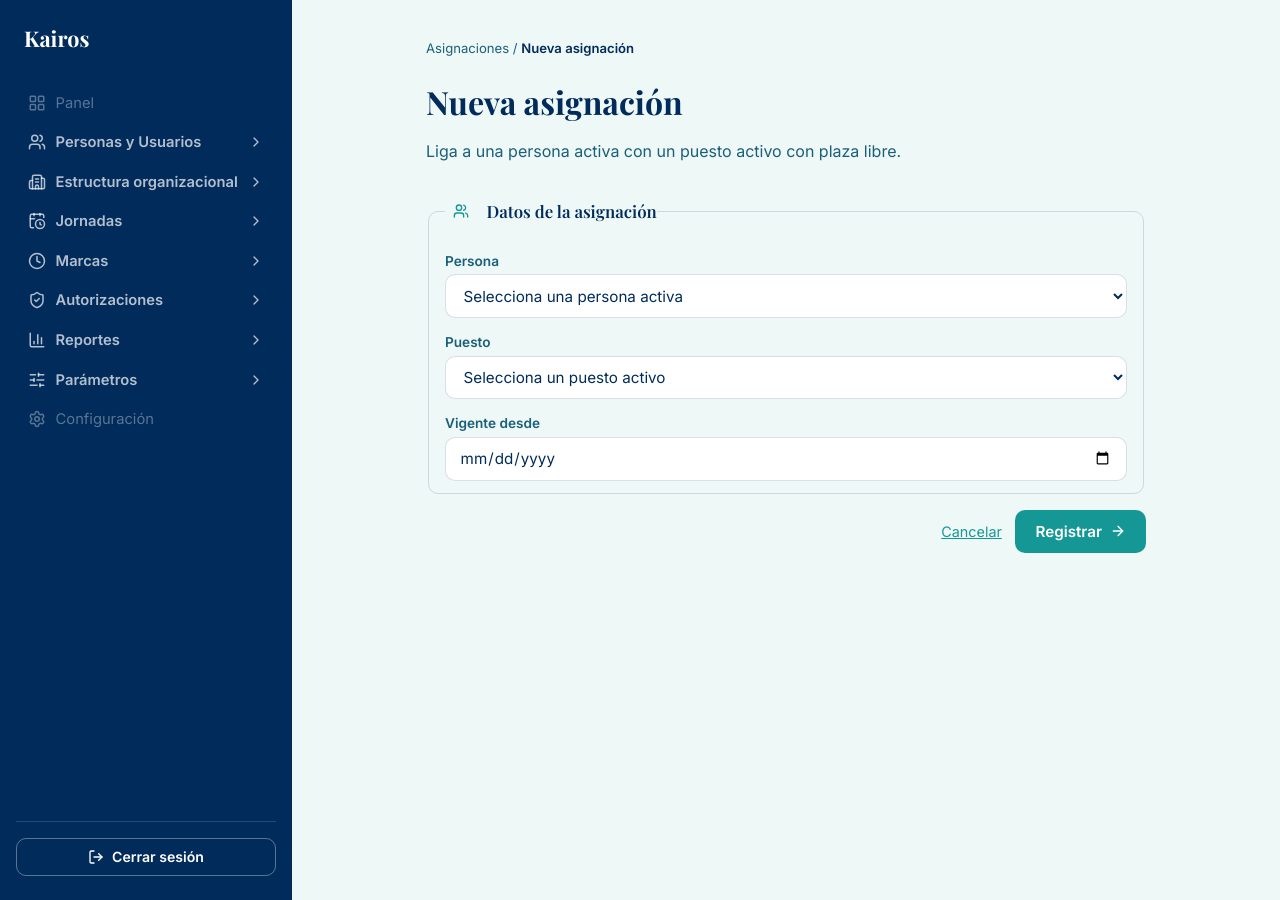
Test: AltaAsignacionPage › muestra el detail real del backend cuando el gate rechaza con 403 (sin asignacion_edicion)
Select "Persona Ficticia Uno" in the dropdown labelled "Persona" at [786, 296], box [445, 274, 1127, 318]
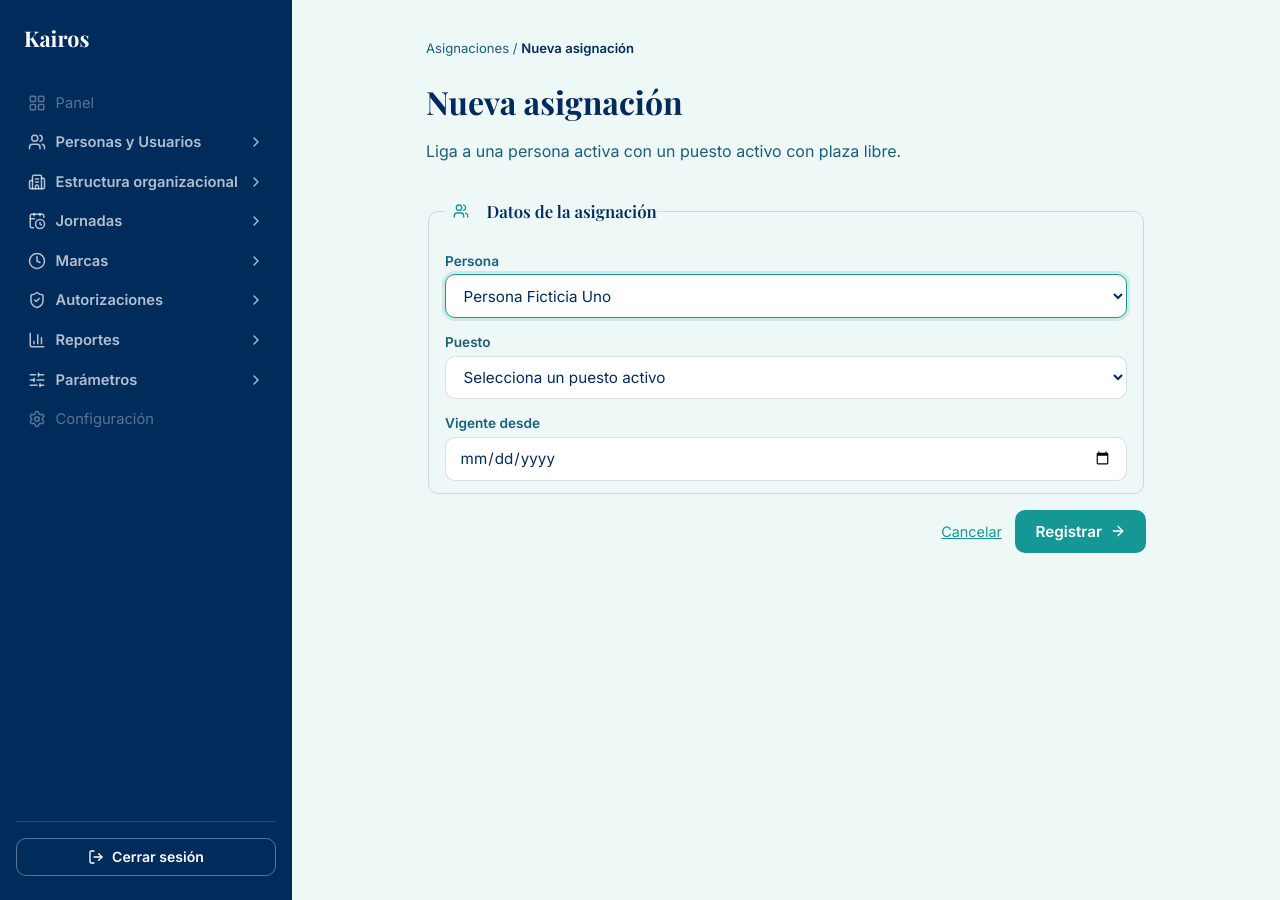
Select "Puesto Ficticio Uno" in the dropdown labelled "Puesto" at [786, 378], box [445, 356, 1127, 399]
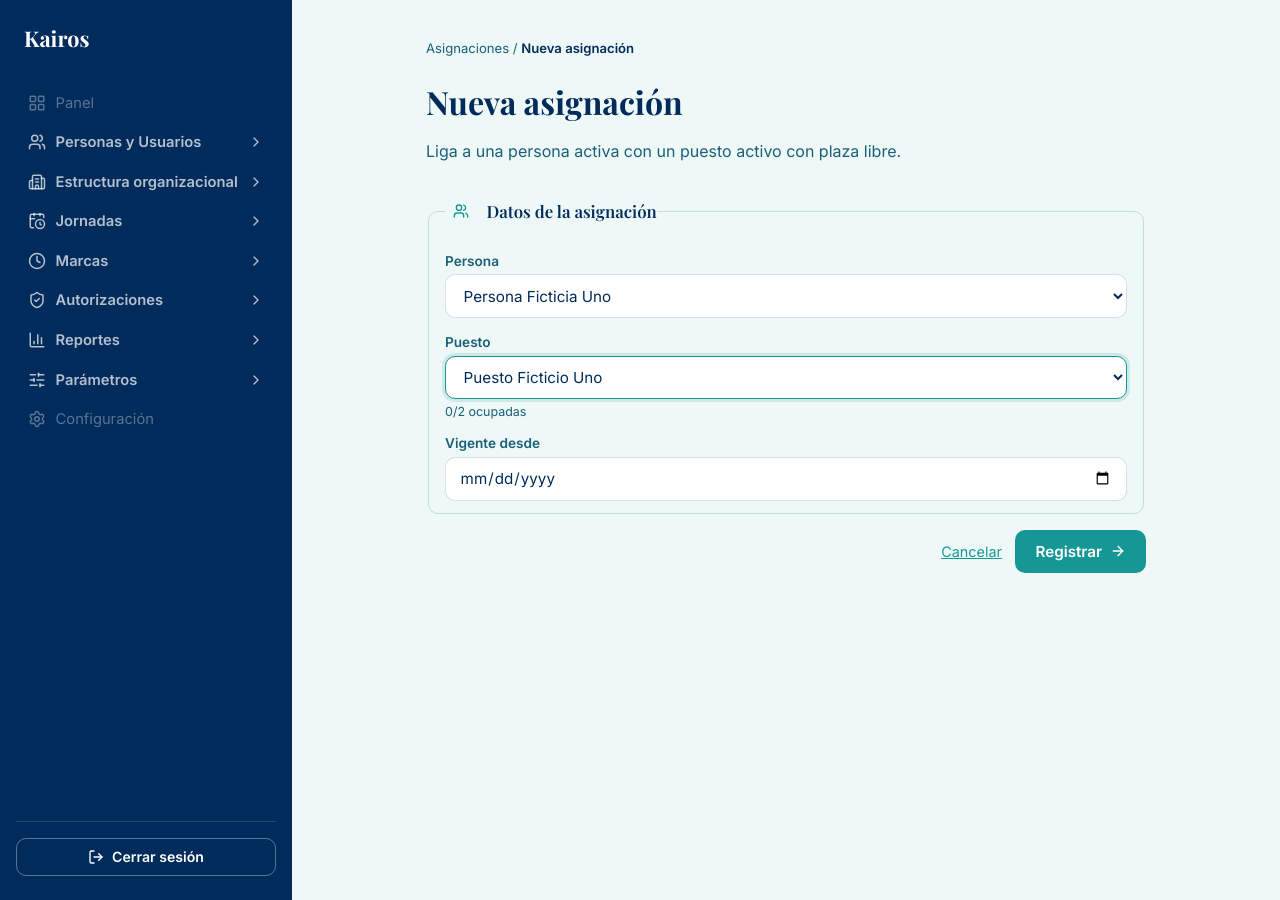
Type "2026-01-01" into the date field labelled "Vigente desde".
click(786, 479); type("2026-01-01")  # box [445, 457, 1127, 500]
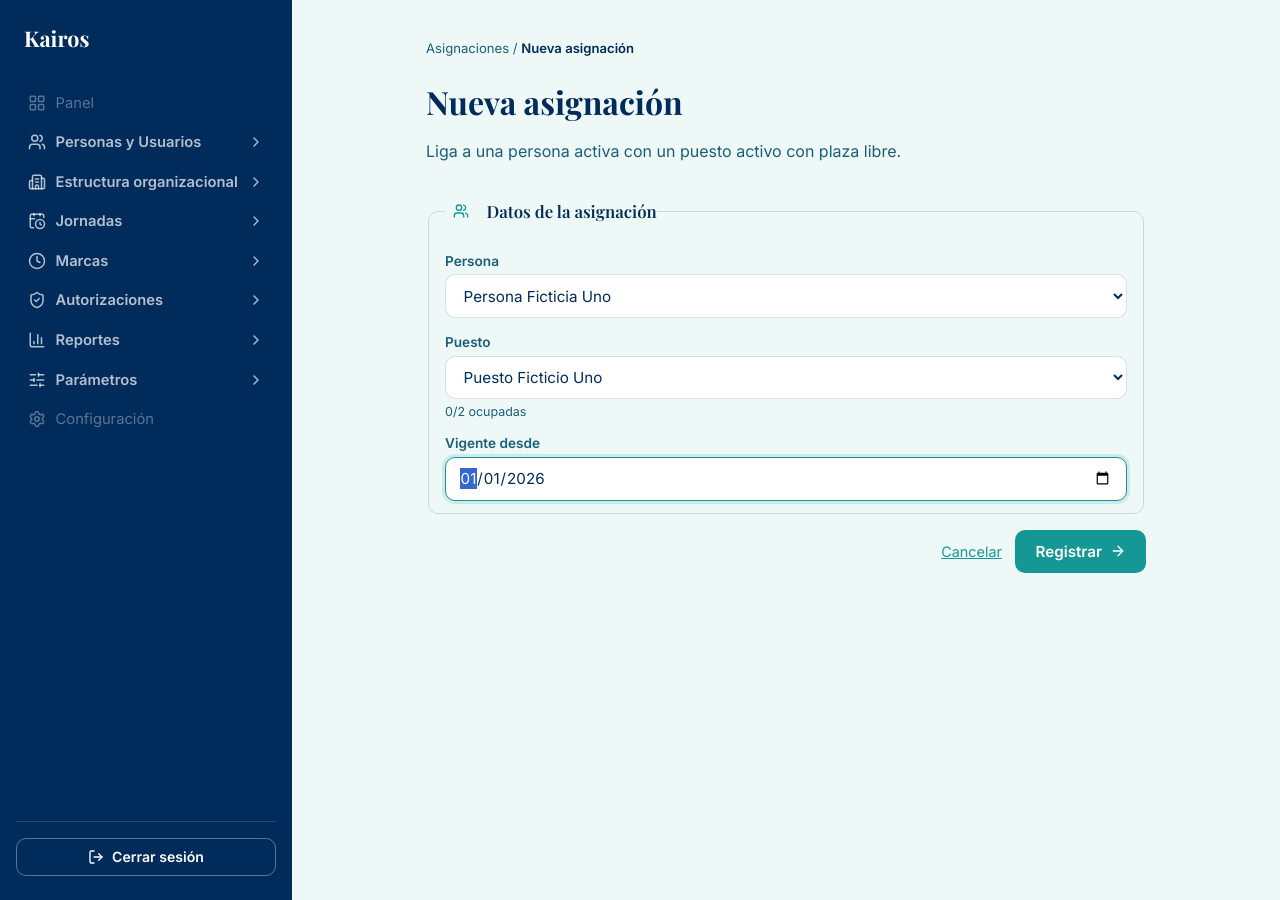
Click the button "Registrar".
click(1081, 551)  # box [1016, 530, 1146, 572]
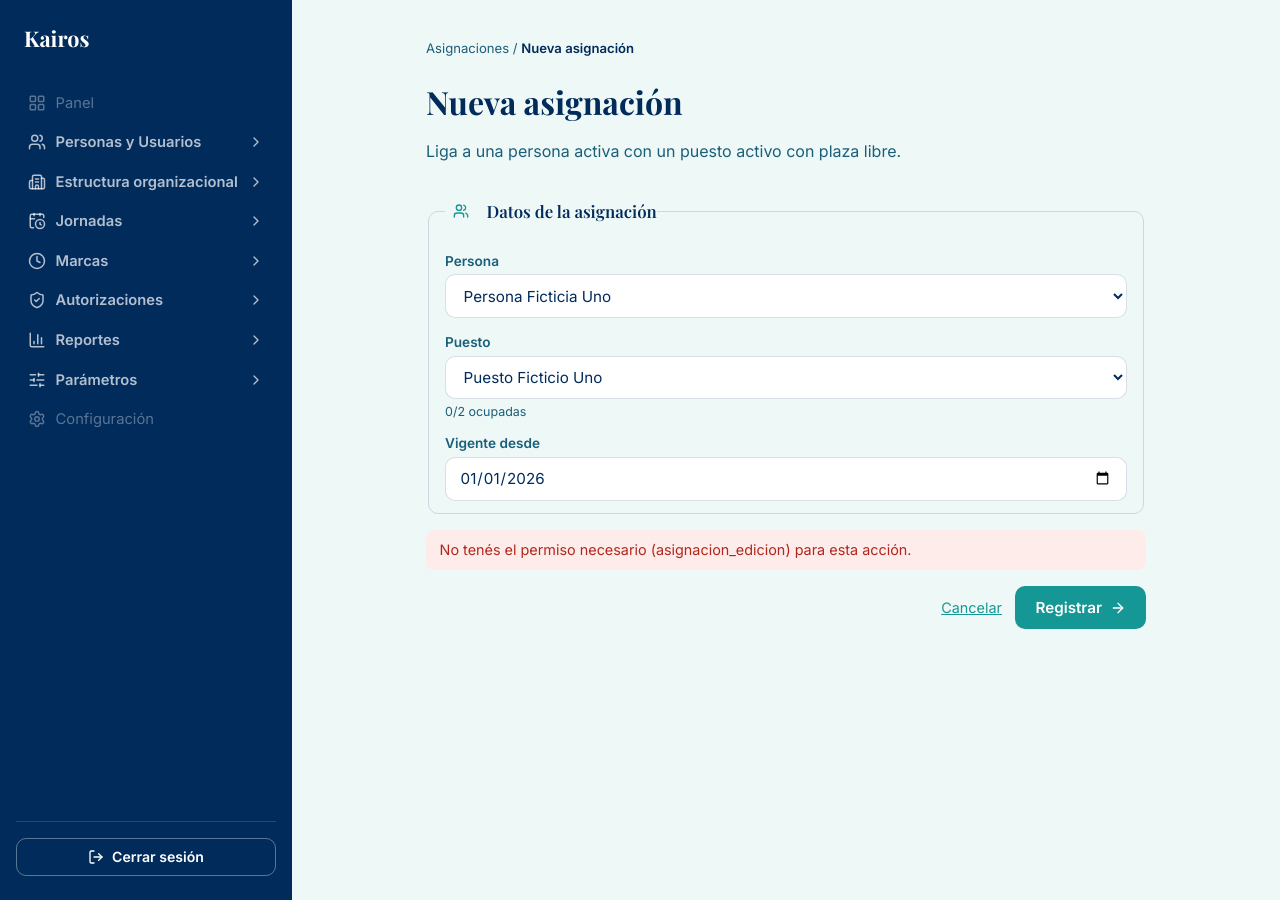
Expected: the text "No tenés el permiso necesario (asignacion_edicion) para esta acción." is shown, [426, 530, 1146, 570]
